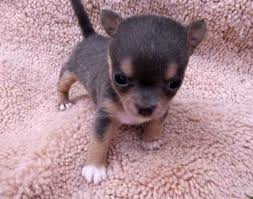chihuahua: (44, 1, 209, 189)
